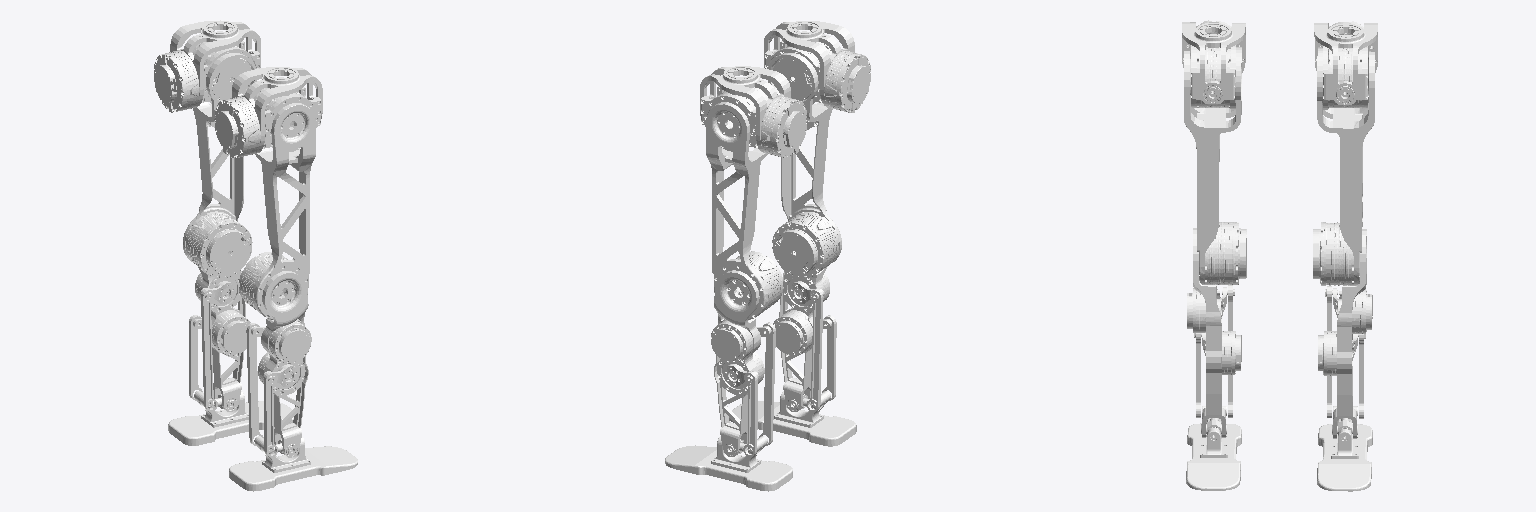
URDF robot description (hubot):
<?xml version="1.0" encoding="utf-8"?>
<!-- This URDF was automatically created by SolidWorks to URDF Exporter! Originally created by [author] ([email redacted]) 
     Commit Version: 1.6.0-4-g7f85cfe  Build Version: 1.6.7995.38578
     For more information, please see http://wiki.ros.org/sw_urdf_exporter -->
<robot
  name="hubot">
  <link
    name="base_link">
    <inertial>
      <origin
        xyz="-0.00042949 0.0012481 0.07375"
        rpy="0 0 0" />
      <mass
        value="1.2568" />
      <inertia
        ixx="0.0030139"
        ixy="-6.3606E-06"
        ixz="2.5947E-06"
        iyy="0.002023"
        iyz="-4.7433E-07"
        izz="0.0037653" />
    </inertial>
    <visual>
      <origin
        xyz="0 0 0"
        rpy="0 0 0" />
      <geometry>
        <mesh
          filename="../meshes/base_link.STL" />
      </geometry>
      <material
        name="">
        <color
          rgba="0.75294 0.75294 0.75294 1" />
      </material>
    </visual>
    <collision>
      <origin
        xyz="0 0 0"
        rpy="0 0 0" />
      <geometry>
        <box
          size = "0.3 0.3 0.3 " />
      </geometry>
    </collision>
    <!-- <collision>
      <origin
        xyz="0 0 0"
        rpy="0 0 0" />
      <geometry>
        <mesh
          filename="../meshes/base_link.STL" />
      </geometry>
    </collision> -->
  </link>
  <link
    name="R_Link1">
    <inertial>
      <origin
        xyz="-0.059435 0.00073323 -0.062997"
        rpy="0 0 0" />
      <mass
        value="0.38012" />
      <inertia
        ixx="0.0010874"
        ixy="-1.8528E-06"
        ixz="0.00019652"
        iyy="0.0012392"
        iyz="-1.4703E-06"
        izz="0.0011227" />
    </inertial>
    <visual>
      <origin
        xyz="0 0 0"
        rpy="0 0 0" />
      <geometry>
        <mesh
          filename="../meshes/R_Link1.STL" />
      </geometry>
      <material
        name="">
        <color
          rgba="1 1 1 1" />
      </material>
    </visual>
    <!-- <collision>
      <origin
        xyz="0 0 0"
        rpy="0 0 0" />
      <geometry>
        <mesh
          filename="../meshes/R_Link1.STL" />
      </geometry>
    </collision> -->
  </link>
  <joint
    name="R_joint1"
    type="revolute">
    <origin
      xyz="-0.0031814 -0.13102 0.00078325"
      rpy="0 0 0" />
    <parent
      link="base_link" />
    <child
      link="R_Link1" />
    <axis
      xyz="0 0 -1" />
    <limit
      lower="-1.57"
      upper="1.57"
      effort="30"
      velocity="60" />
  </joint>
  <link
    name="R_Link2">
    <inertial>
      <origin
        xyz="0.0036935 -0.00084193 -0.085319"
        rpy="0 0 0" />
      <mass
        value="0.38022" />
      <inertia
        ixx="0.00095919"
        ixy="3.3385E-08"
        ixz="1.6031E-07"
        iyy="0.0005686"
        iyz="-1.0914E-05"
        izz="0.00050988" />
    </inertial>
    <visual>
      <origin
        xyz="0 0 0"
        rpy="0 0 0" />
      <geometry>
        <mesh
          filename="../meshes/R_Link2.STL" />
      </geometry>
      <material
        name="">
        <color
          rgba="1 1 1 1" />
      </material>
    </visual>
    <!-- <collision>
      <origin
        xyz="0 0 0"
        rpy="0 0 0" />
      <geometry>
        <mesh
          filename="../meshes/R_Link2.STL" />
      </geometry>
    </collision> -->
  </link>
  <joint
    name="R_joint2"
    type="revolute">
    <origin
      xyz="0.080994 -0.00099119 -0.096"
      rpy="-1.5708 0 -1.583" />
    <parent
      link="R_Link1" />
    <child
      link="R_Link2" />
    <axis
      xyz="0 0 -1" />
    <limit
      lower="-0.3"
      upper="0.3"
      effort="20"
      velocity="60" />
  </joint>
  <link
    name="R_Link3">
    <inertial>
      <origin
        xyz="-0.001535 0.20374 -0.053712"
        rpy="0 0 0" />
      <mass
        value="0.71374" />
      <inertia
        ixx="0.008592"
        ixy="-2.6896E-05"
        ixz="6.198E-07"
        iyy="0.0010013"
        iyz="0.0004338"
        izz="0.0092765" />
    </inertial>
    <visual>
      <origin
        xyz="0 0 0"
        rpy="0 0 0" />
      <geometry>
        <mesh
          filename="../meshes/R_Link3.STL" />
      </geometry>
      <material
        name="">
        <color
          rgba="1 1 1 1" />
      </material>
    </visual>
    <!-- <collision>
      <origin
        xyz="0 0 0"
        rpy="0 0 0" />
      <geometry>
        <mesh
          filename="../meshes/R_Link3.STL" />
      </geometry>
    </collision> -->
  </link>
  <joint
    name="R_joint3"
    type="revolute">
    <origin
      xyz="-0.04575 0 -0.081"
      rpy="3.1416 -1.5586 -3.1416" />
    <parent
      link="R_Link2" />
    <child
      link="R_Link3" />
    <axis
      xyz="-0.012237 0 -0.99993" />
    <limit
      lower="-1.57"
      upper="0.6"
      effort="55"
      velocity="50" />
  </joint>
  <link
    name="R_Link4">
    <inertial>
      <origin
        xyz="0.015547 0.15251 0.021034"
        rpy="0 0 0" />
      <mass
        value="0.95894" />
      <inertia
        ixx="0.0046891"
        ixy="0.00031318"
        ixz="4.1474E-05"
        iyy="0.00059902"
        iyz="0.00040986"
        izz="0.0050861" />
    </inertial>
    <visual>
      <origin
        xyz="0 0 0"
        rpy="0 0 0" />
      <geometry>
        <mesh
          filename="../meshes/R_Link4.STL" />
      </geometry>
      <material
        name="">
        <color
          rgba="1 1 1 1" />
      </material>
    </visual>
    <!-- <collision>
      <origin
        xyz="0 0 0"
        rpy="0 0 0" />
      <geometry>
        <mesh
          filename="../meshes/R_Link4.STL" />
      </geometry>
    </collision> -->
  </link>
  <joint
    name="R_joint4"
    type="revolute">
    <origin
      xyz="-0.013346 0.3898 -0.069092"
      rpy="0 0.012237 0" />
    <parent
      link="R_Link3" />
    <child
      link="R_Link4" />
    <axis
      xyz="0 0 -1" />
    <limit
      lower="-2"
      upper="2"
      effort="55"
      velocity="50" />
  </joint>
  <link
    name="R_Link5">
    <inertial>
      <origin
        xyz="-0.0043137 -3.0105E-08 0.022054"
        rpy="0 0 0" />
      <mass
        value="0.034452" />
      <inertia
        ixx="2.834E-06"
        ixy="1.8724E-10"
        ixz="-5.759E-08"
        iyy="7.0876E-06"
        iyz="-1.5208E-11"
        izz="7.5401E-06" />
    </inertial>
    <visual>
      <origin
        xyz="0 0 0"
        rpy="0 0 0" />
      <geometry>
        <mesh
          filename="../meshes/R_Link5.STL" />
      </geometry>
      <material
        name="">
        <color
          rgba="1 1 1 1" />
      </material>
    </visual>
    <!-- <collision>
      <origin
        xyz="0 0 0"
        rpy="0 0 0" />
      <geometry>
        <mesh
          filename="../meshes/R_Link5.STL" />
      </geometry>
    </collision> -->
  </link>
  <joint
    name="R_joint5"
    type="revolute">
    <origin
      xyz="0.025483 0.36912 0.003"
      rpy="0 -0.012237 0" />
    <parent
      link="R_Link4" />
    <child
      link="R_Link5" />
    <axis
      xyz="0.012237 0 0.99993" />
    <limit
      lower="-0.8"
      upper="0.8"
      effort="20"
      velocity="20" />
  </joint>
  <link
    name="R_Link6">
    <inertial>
      <origin
        xyz="-2.1757E-07 0.038912 -0.024558"
        rpy="0 0 0" />
      <mass
        value="0.22797" />
      <inertia
        ixx="0.0011121"
        ixy="-1.903E-10"
        ixz="-1.415E-09"
        iyy="0.0012432"
        iyz="3.746E-05"
        izz="0.00019902" />
    </inertial>
    <visual>
      <origin
        xyz="0 0 0"
        rpy="0 0 0" />
      <geometry>
        <mesh
          filename="../meshes/R_Link6.STL" />
      </geometry>
      <material
        name="">
        <color
          rgba="1 1 1 1" />
      </material>
    </visual>
    <collision>
      <origin
        xyz="0 0 0"
        rpy="0 0 0" />
      <geometry>
        <mesh
          filename="../meshes/R_Link6.STL" />
      </geometry>
    </collision>
  </link>
  <joint
    name="R_joint6"
    type="revolute">
    <origin
      xyz="0.029267 0 0.021643"
      rpy="3.1416 1.5586 3.1416" />
    <parent
      link="R_Link5" />
    <child
      link="R_Link6" />
    <axis
      xyz="0 0 1" />
    <limit
      lower="-0.5"
      upper="0.5"
      effort="20"
      velocity="20" />
  </joint>
  <link
    name="L_Link1">
    <inertial>
      <origin
        xyz="-0.059435 0.00072145 -0.062997"
        rpy="0 0 0" />
      <mass
        value="0.38012" />
      <inertia
        ixx="0.0010874"
        ixy="-1.8585E-06"
        ixz="0.00019649"
        iyy="0.0012392"
        iyz="-3.3387E-06"
        izz="0.0011227" />
    </inertial>
    <visual>
      <origin
        xyz="0 0 0"
        rpy="0 0 0" />
      <geometry>
        <mesh
          filename="../meshes/L_Link1.STL" />
      </geometry>
      <material
        name="">
        <color
          rgba="1 1 1 1" />
      </material>
    </visual>
    <!-- <collision>
      <origin
        xyz="0 0 0"
        rpy="0 0 0" />
      <geometry>
        <mesh
          filename="../meshes/L_Link1.STL" />
      </geometry>
    </collision> -->
  </link>
  <joint
    name="L_joint1"
    type="revolute">
    <origin
      xyz="0 0.12894 0.00078325"
      rpy="0 0 0" />
    <parent
      link="base_link" />
    <child
      link="L_Link1" />
    <axis
      xyz="0 0 -1" />
    <limit
      lower="-1.57"
      upper="1.57"
      effort="30"
      velocity="60" />
  </joint>
  <link
    name="L_Link2">
    <inertial>
      <origin
        xyz="-0.0036934 -0.00084193 -0.085319"
        rpy="0 0 0" />
      <mass
        value="0.38022" />
      <inertia
        ixx="0.00095919"
        ixy="-3.3491E-08"
        ixz="-1.6011E-07"
        iyy="0.00056859"
        iyz="-1.0908E-05"
        izz="0.00050989" />
    </inertial>
    <visual>
      <origin
        xyz="0 0 0"
        rpy="0 0 0" />
      <geometry>
        <mesh
          filename="../meshes/L_Link2.STL" />
      </geometry>
      <material
        name="">
        <color
          rgba="1 1 1 1" />
      </material>
    </visual>
    <!-- <collision>
      <origin
        xyz="0 0 0"
        rpy="0 0 0" />
      <geometry>
        <mesh
          filename="../meshes/L_Link2.STL" />
      </geometry>
    </collision> -->
  </link>
  <joint
    name="L_joint2"
    type="revolute">
    <origin
      xyz="0.080994 -0.00099119 -0.096"
      rpy="-1.5708 0 -1.583" />
    <parent
      link="L_Link1" />
    <child
      link="L_Link2" />
    <axis
      xyz="0 0 -1" />
    <limit
      lower="-0.3"
      upper="0.3"
      effort="20"
      velocity="60" />
  </joint>
  <link
    name="L_Link3">
    <inertial>
      <origin
        xyz="-0.00022005 0.20374 0.053733"
        rpy="0 0 0" />
      <mass
        value="0.71374" />
      <inertia
        ixx="0.0085924"
        ixy="-3.7525E-05"
        ixz="-1.7365E-05"
        iyy="0.0010013"
        iyz="-0.00043302"
        izz="0.009276" />
    </inertial>
    <visual>
      <origin
        xyz="0 0 0"
        rpy="0 0 0" />
      <geometry>
        <mesh
          filename="../meshes/L_Link3.STL" />
      </geometry>
      <material
        name="">
        <color
          rgba="1 1 1 1" />
      </material>
    </visual>
    <!-- <collision>
      <origin
        xyz="0 0 0"
        rpy="0 0 0" />
      <geometry>
        <mesh
          filename="../meshes/L_Link3.STL" />
      </geometry>
    </collision> -->
  </link>
  <joint
    name="L_joint3"
    type="revolute">
    <origin
      xyz="0.04575 0 -0.081"
      rpy="-3.1416 -1.5586 3.1416" />
    <parent
      link="L_Link2" />
    <child
      link="L_Link3" />
    <axis
      xyz="0.012237 0 0.99993" />
    <limit
      lower="-1.57"
      upper="0.6"
      effort="55"
      velocity="50" />
  </joint>
  <link
    name="L_Link4">
    <inertial>
      <origin
        xyz="0.01532 0.15271 -0.021249"
        rpy="0 0 0" />
      <mass
        value="0.96274" />
      <inertia
        ixx="0.0046911"
        ixy="0.00030815"
        ixz="-4.6335E-05"
        iyy="0.00060004"
        iyz="-0.00041365"
        izz="0.0050869" />
    </inertial>
    <visual>
      <origin
        xyz="0 0 0"
        rpy="0 0 0" />
      <geometry>
        <mesh
          filename="../meshes/L_Link4.STL" />
      </geometry>
      <material
        name="">
        <color
          rgba="1 1 1 1" />
      </material>
    </visual>
    <!-- <collision>
      <origin
        xyz="0 0 0"
        rpy="0 0 0" />
      <geometry>
        <mesh
          filename="../meshes/L_Link4.STL" />
      </geometry>
    </collision> -->
  </link>
  <joint
    name="L_joint4"
    type="revolute">
    <origin
      xyz="-0.011652 0.3898 0.069398"
      rpy="0 0 0" />
    <parent
      link="L_Link3" />
    <child
      link="L_Link4" />
    <axis
      xyz="0.012237 0 0.99993" />
    <limit
      lower="-2"
      upper="2"
      effort="55"
      velocity="50" />
  </joint>
  <link
    name="L_Link5">
    <inertial>
      <origin
        xyz="-0.0048982 3.0647E-08 -0.021942"
        rpy="0 0 0" />
      <mass
        value="0.034108" />
      <inertia
        ixx="2.8191E-06"
        ixy="1.8546E-10"
        ixz="-5.7432E-08"
        iyy="7.0726E-06"
        iyz="1.0969E-11"
        izz="7.5105E-06" />
    </inertial>
    <visual>
      <origin
        xyz="0 0 0"
        rpy="0 0 0" />
      <geometry>
        <mesh
          filename="../meshes/L_Link5.STL" />
      </geometry>
      <material
        name="">
        <color
          rgba="1 1 1 1" />
      </material>
    </visual>
    <!-- <collision>
      <origin
        xyz="0 0 0"
        rpy="0 0 0" />
      <geometry>
        <mesh
          filename="../meshes/L_Link5.STL" />
      </geometry>
    </collision> -->
  </link>
  <joint
    name="L_joint5"
    type="revolute">
    <origin
      xyz="0.025445 0.36912 -0.0033116"
      rpy="0 0 0" />
    <parent
      link="L_Link4" />
    <child
      link="L_Link5" />
    <axis
      xyz="-0.012237 0 -0.99993" />
    <limit
      lower="-0.8"
      upper="0.8"
      effort="20"
      velocity="20" />
  </joint>
  <link
    name="L_Link6">
    <inertial>
      <origin
        xyz="-0.00030072 0.038912 -0.024557"
        rpy="0 0 0" />
      <mass
        value="0.22797" />
      <inertia
        ixx="0.0011119"
        ixy="4.5842E-07"
        ixz="1.1171E-05"
        iyy="0.0012432"
        iyz="3.7458E-05"
        izz="0.00019915" />
    </inertial>
    <visual>
      <origin
        xyz="0 0 0"
        rpy="0 0 0" />
      <geometry>
        <mesh
          filename="../meshes/L_Link6.STL" />
      </geometry>
      <material
        name="">
        <color
          rgba="1 1 1 1" />
      </material>
    </visual>
    <collision>
      <origin
        xyz="0 0 0"
        rpy="0 0 0" />
      <geometry>
        <mesh
          filename="../meshes/L_Link6.STL" />
      </geometry>
    </collision>
  </link>
  <joint
    name="L_joint6"
    type="revolute">
    <origin
      xyz="0.028729 0 -0.022353"
      rpy="0 1.5708 0" />
    <parent
      link="L_Link5" />
    <child
      link="L_Link6" />
    <axis
      xyz="0.012237 0 0.99993" />
    <limit
      lower="-0.5"
      upper="0.5"
      effort="20"
      velocity="20" />
  </joint>
</robot>

--- What the picture shows (computed from the rendered views, not written in the file) ---
Views: 3 orthographic renders of the robot side by side, from view 1: azimuth 30°, elevation 25°; view 2: azimuth 150°, elevation 25°; view 3: azimuth 270°, elevation 25°.
Model hubot with 13 links and 12 joints (12 revolute), rooted at base_link, posed every joint at zero.
Visible links, largest first — view 1: R_Link4, R_Link3, L_Link3, L_Link4, R_Link1, L_Link1, R_Link6, L_Link6, L_Link2, R_Link2; view 2: L_Link4, L_Link3, R_Link3, R_Link4, L_Link1, R_Link1, L_Link6, R_Link6, R_Link2, L_Link2; view 3: R_Link3, L_Link3, L_Link4, R_Link4, R_Link6, L_Link6, R_Link1, L_Link1, L_Link2, R_Link2.
Boxes of the visible links, x1,y1,x2,y2 form: R_Link4: [246, 271, 311, 457]; R_Link3: [239, 92, 315, 319]; L_Link3: [183, 53, 256, 277]; L_Link4: [189, 267, 250, 411]; R_Link1: [215, 67, 322, 157]; L_Link1: [154, 20, 260, 112]; R_Link6: [229, 436, 357, 491]; L_Link6: [168, 391, 293, 445]; L_Link2: [192, 41, 259, 103]; R_Link2: [253, 87, 320, 151]; L_Link4: [711, 270, 775, 456]; L_Link3: [706, 91, 783, 319]; R_Link3: [768, 53, 841, 278]; R_Link4: [773, 266, 836, 411]; L_Link1: [700, 66, 806, 157]; R_Link1: [764, 21, 870, 112]; L_Link6: [665, 436, 792, 491]; R_Link6: [729, 391, 856, 446]; R_Link2: [765, 41, 831, 103]; L_Link2: [701, 86, 767, 151]; R_Link3: [1184, 47, 1246, 284]; L_Link3: [1313, 47, 1374, 285]; L_Link4: [1318, 229, 1372, 438]; R_Link4: [1187, 228, 1241, 437]; R_Link6: [1186, 406, 1241, 490]; L_Link6: [1317, 406, 1372, 491]; R_Link1: [1182, 20, 1245, 104]; L_Link1: [1314, 21, 1377, 105]; L_Link2: [1323, 46, 1368, 109]; R_Link2: [1191, 45, 1235, 109].
Bounding box of the posed robot: 0.3104 × 0.3857 × 0.9179 m (x, y, z).
12 mesh visuals loaded from 13 distinct referenced files (12 binary STL); not drawn: 1 (reference not matched to a file when rendering).